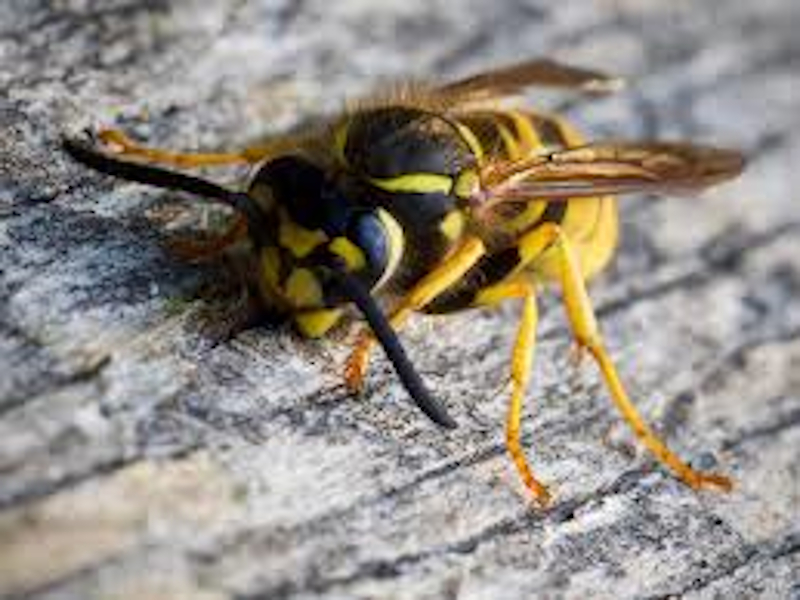chax: (89, 31, 768, 536)
